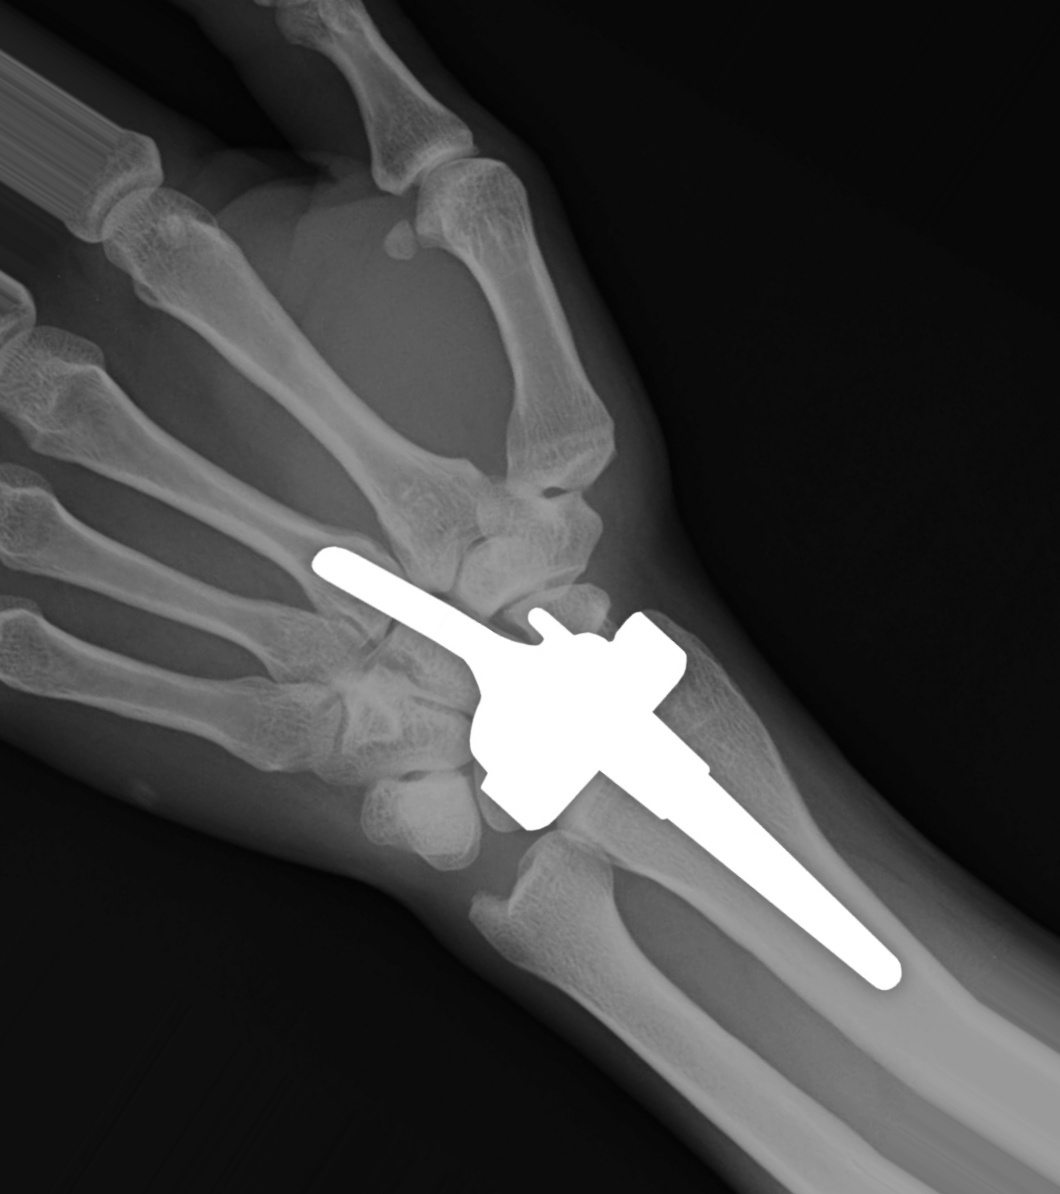Wrist-Biax-DePuuy: (297, 490, 910, 1017)
